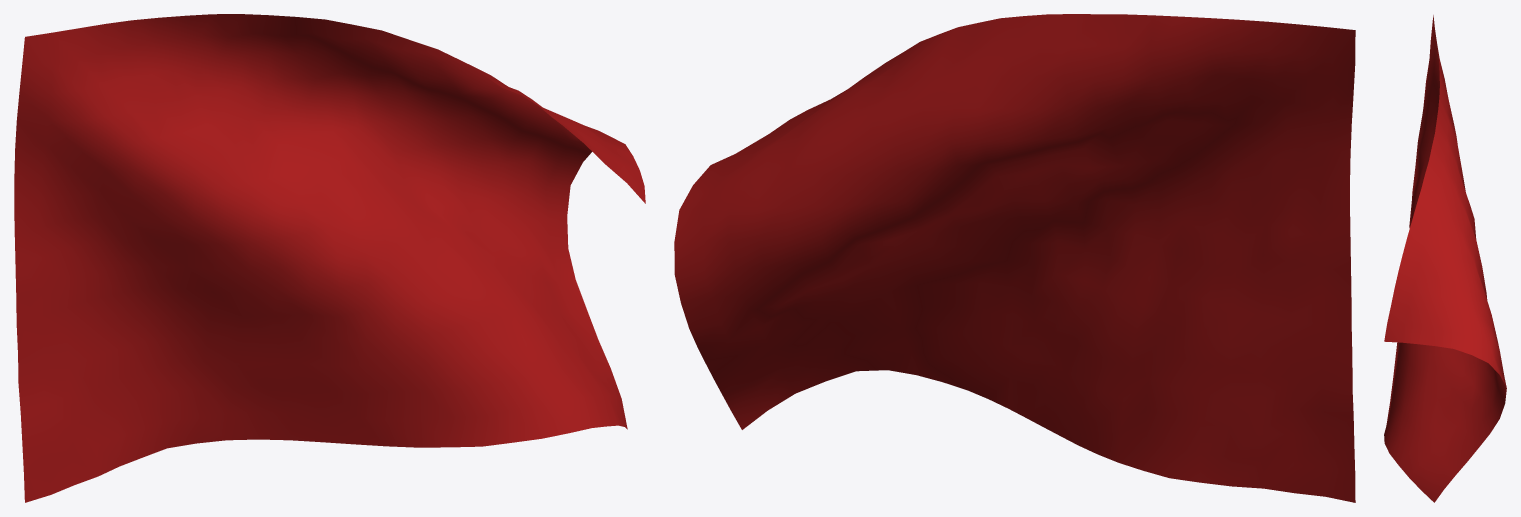
File: red_flag.glb
3 views of the same model, side by side, from view 1: azimuth 30°, elevation 25°; view 2: azimuth 150°, elevation 25°; view 3: azimuth 270°, elevation 25° (orthographic). The views are drawn at different scales.
Visible parts, largest first — view 1: Flag ShapeKeys_2_4_7; view 2: Flag ShapeKeys_2_4_7; view 3: Flag ShapeKeys_2_4_7.
Boxes of the visible parts, bbox=[...] form: Flag ShapeKeys_2_4_7: bbox=[14, 14, 645, 502]; Flag ShapeKeys_2_4_7: bbox=[674, 14, 1355, 502]; Flag ShapeKeys_2_4_7: bbox=[1384, 15, 1506, 502].
Size of the model in its own units: 2.8 by 2.32 by 0.8164.
Materials: 1 (1 with a texture image).
